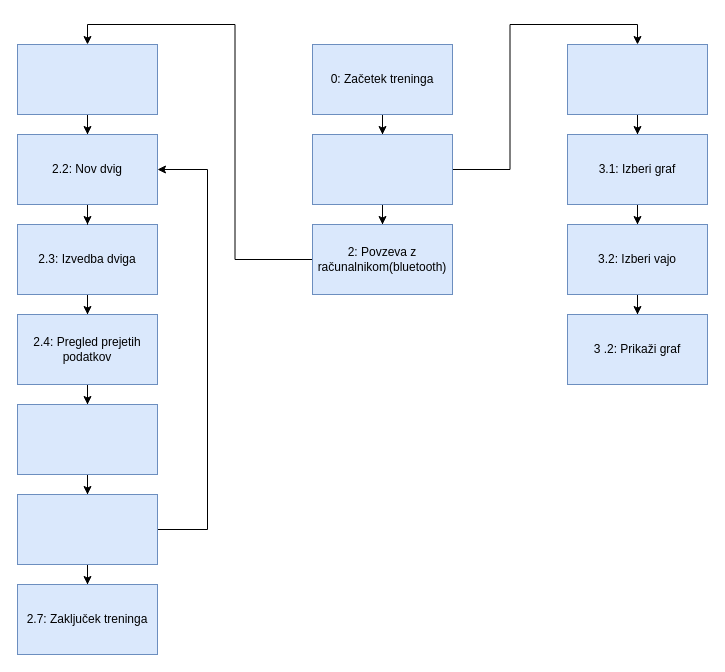
This 725x672 diagram has some shape labels left out. The box of each missing label's shape, as (x1, y1, x2, y2) in pixels:
1: Zagon aplikacije: (312, 134, 452, 204)
2.1: Nov trening: (16, 44, 158, 114)
2.5: Dodajanje videa, komentarja, teže, RPE: (16, 404, 158, 474)
2.6: Shranjevanje dviga: (16, 494, 158, 564)
3: Pregled treningov: (566, 44, 708, 114)
